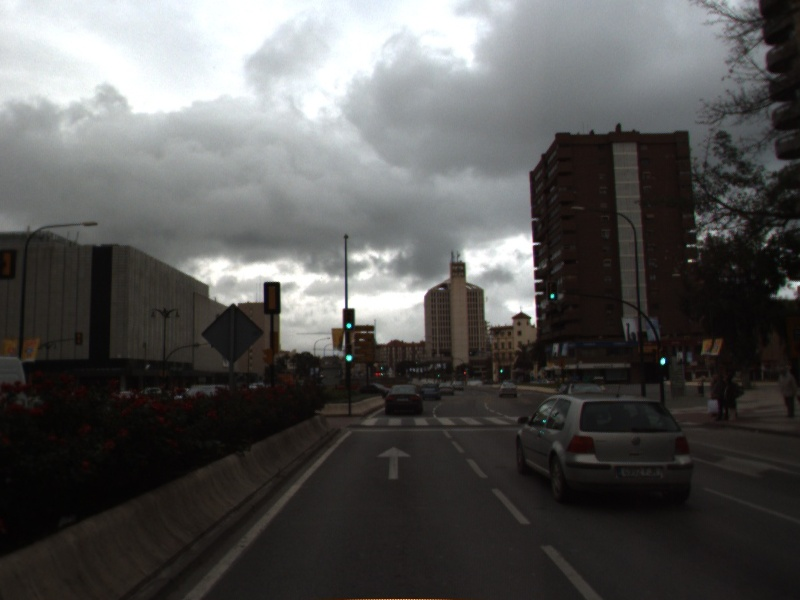STRAIGHT: (377, 447, 410, 479)
STRAIGHT_RIGHT: (693, 451, 799, 479)
